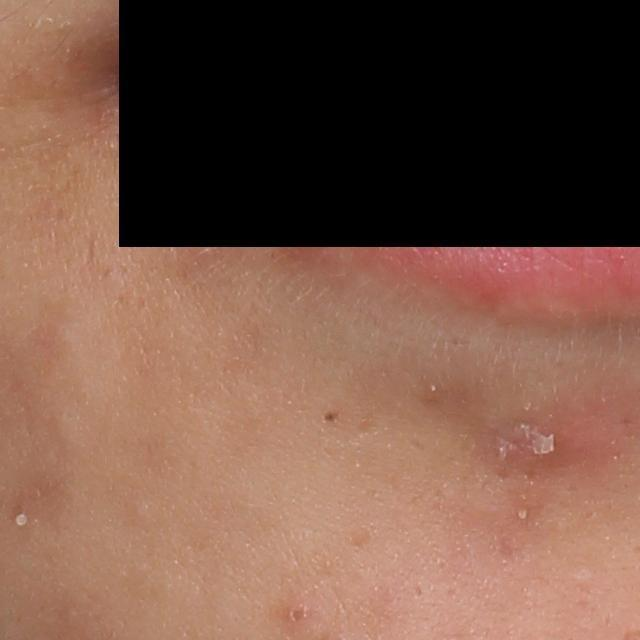comedo: (286, 602, 309, 626)
nevus: (320, 408, 343, 426)
